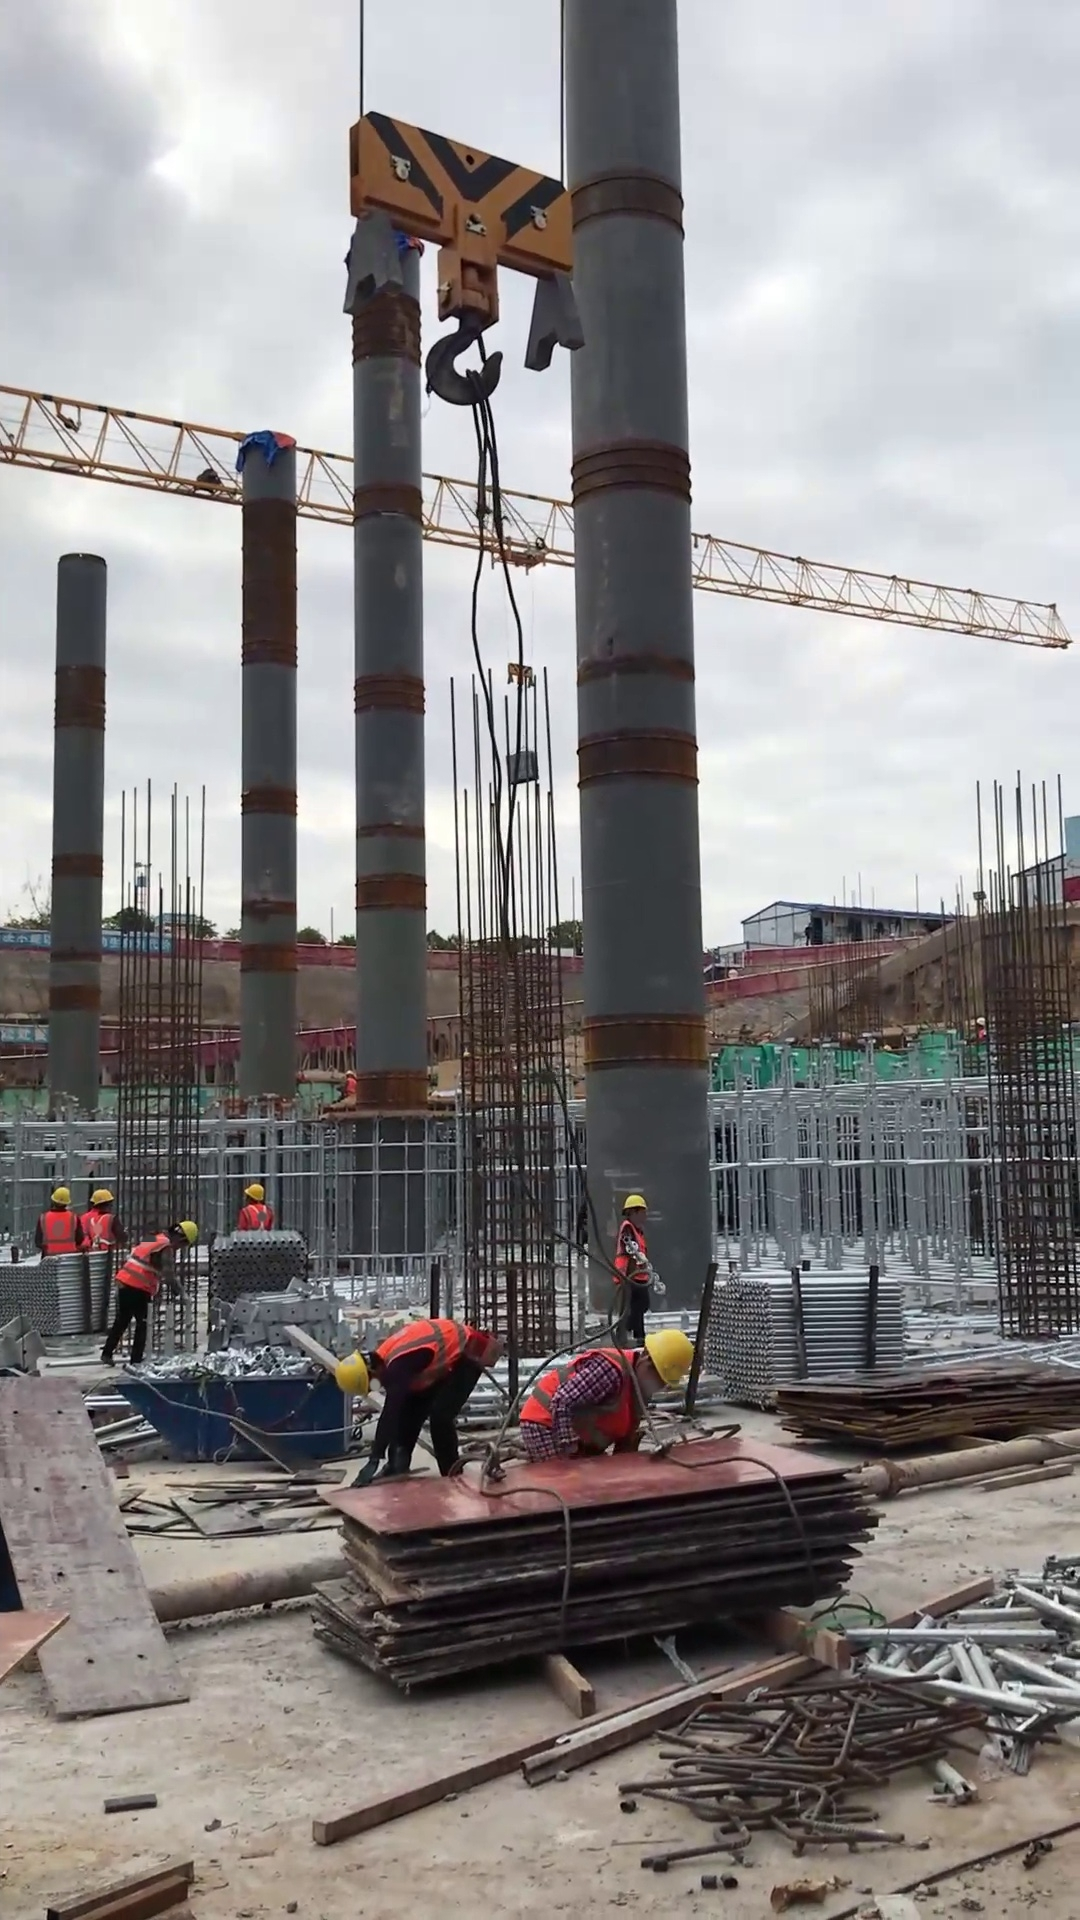board: (313, 1436, 881, 1692), (770, 1358, 1080, 1446)
helmet: (643, 1329, 697, 1387), (334, 1349, 372, 1402), (87, 1185, 113, 1209), (621, 1193, 647, 1217), (178, 1218, 200, 1245), (49, 1186, 74, 1206), (243, 1182, 267, 1202), (975, 1014, 986, 1028), (343, 1069, 357, 1075)
hook: (336, 108, 591, 410), (506, 660, 535, 693)
hopper: (107, 1371, 356, 1465)
person: (334, 1315, 500, 1488), (517, 1328, 696, 1462), (99, 1218, 199, 1368), (610, 1192, 651, 1344), (34, 1186, 85, 1258), (81, 1185, 130, 1254), (235, 1177, 277, 1233), (337, 1070, 357, 1100)
scaffold: (699, 1270, 911, 1407), (1, 1254, 120, 1338), (209, 1228, 312, 1297)
slogan: (1, 926, 174, 958), (1, 1024, 52, 1049)
vest: (519, 1344, 643, 1449), (377, 1316, 469, 1396), (114, 1230, 172, 1296), (609, 1217, 650, 1284), (40, 1208, 83, 1256), (84, 1208, 119, 1253), (238, 1200, 276, 1232), (340, 1076, 358, 1101)
